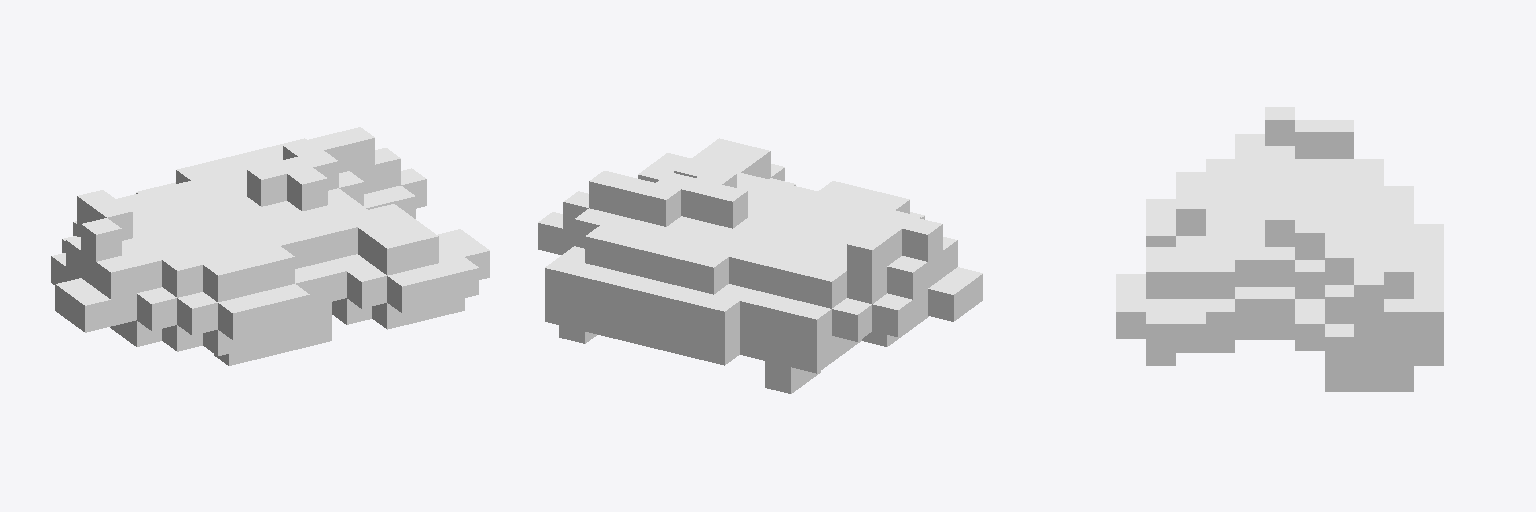
File: SC_Gold.obj
The picture shows the model from 3 angles: view 1: azimuth 30°, elevation 25°; view 2: azimuth 150°, elevation 25°; view 3: azimuth 270°, elevation 25°; orthographic projection.
Size of the model in its own units: 15 by 5 by 11.